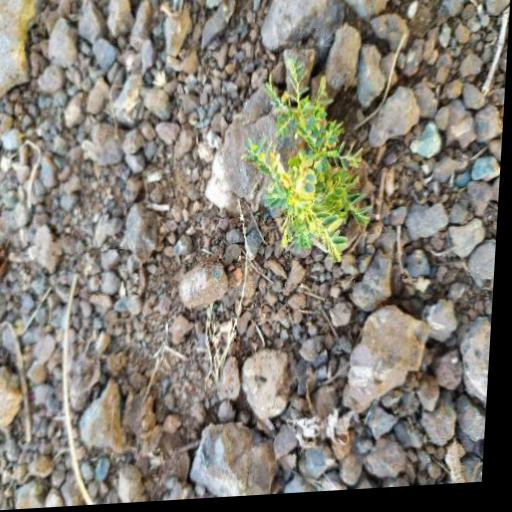weed: (236, 87, 390, 287)
